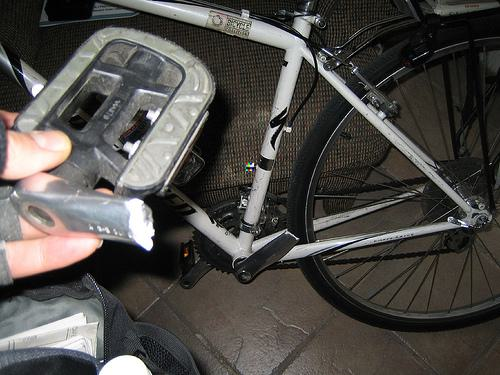car: (1, 1, 500, 334)
person: (1, 107, 119, 287)
